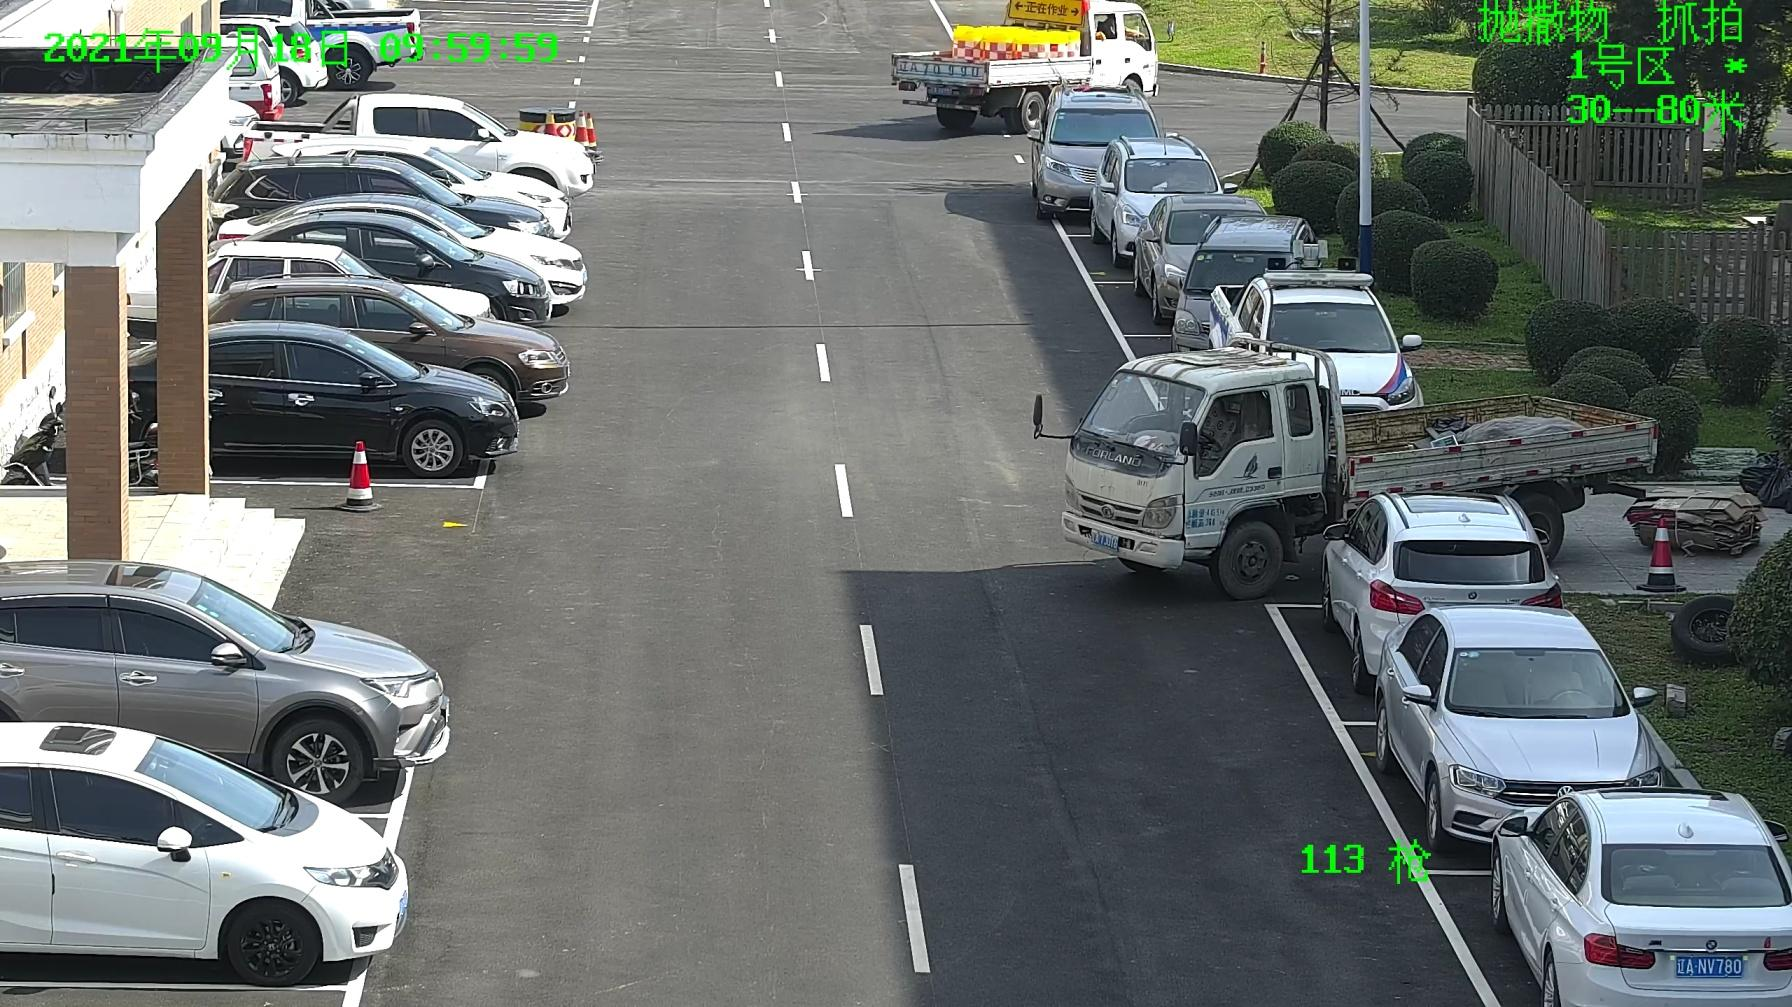cone_barrel: (950, 26, 981, 58), (983, 28, 1017, 57), (1017, 31, 1049, 58), (1050, 30, 1067, 55), (1068, 30, 1081, 57)
